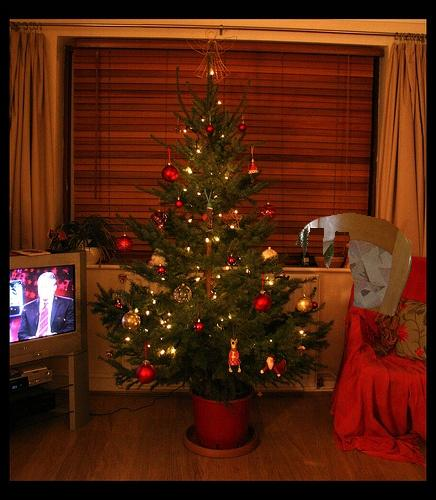tampered: (296, 213, 412, 316)
